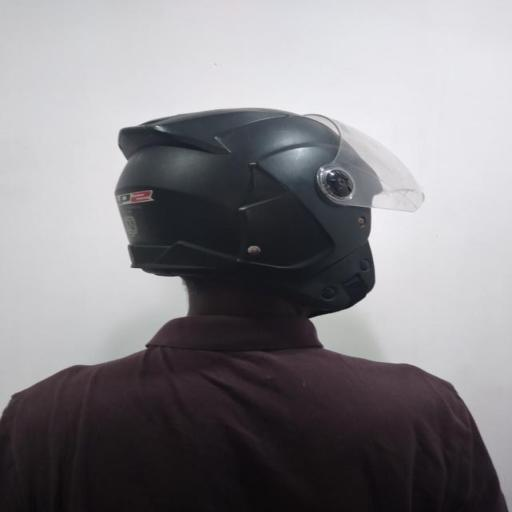with helmet: (113, 107, 425, 312)
